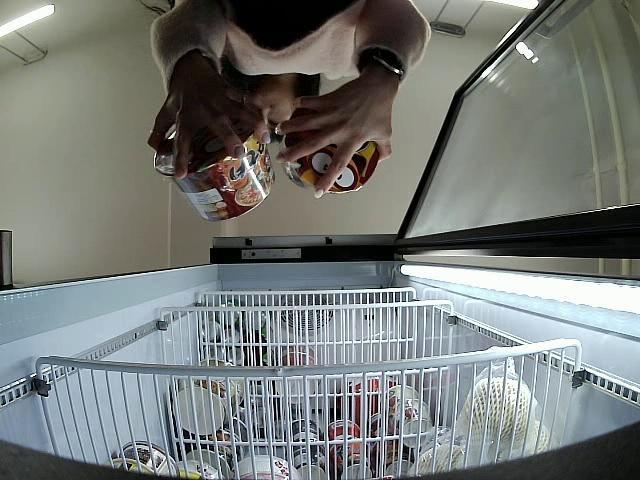05_nuguri_L: (154, 112, 276, 223), (282, 107, 383, 194)
